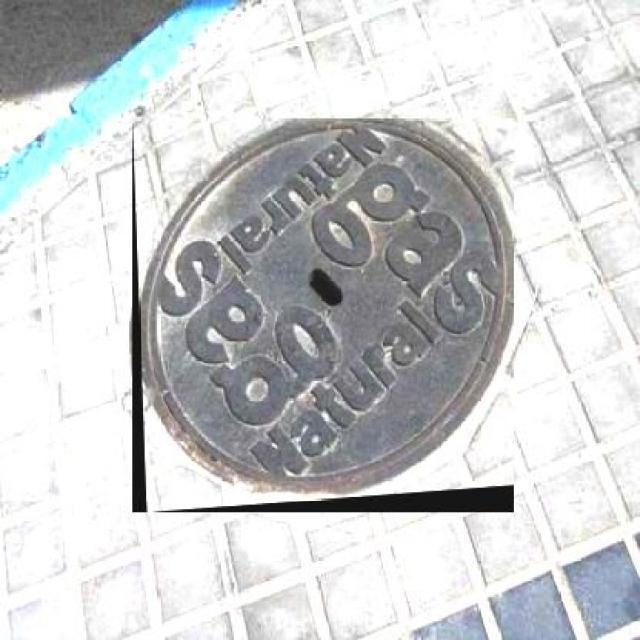Manhole: (132, 119, 514, 512)
